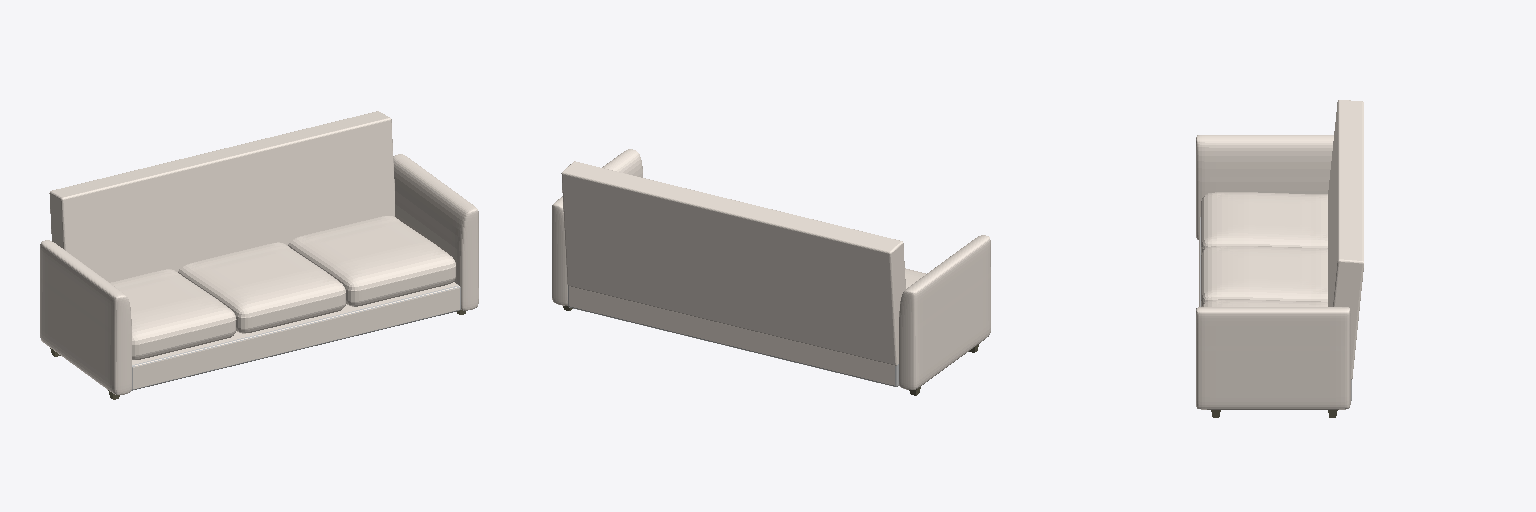
3 renders of one model, left to right at view 1: azimuth 30°, elevation 25°; view 2: azimuth 150°, elevation 25°; view 3: azimuth 270°, elevation 25°, orthographic.
Parts seen in each view (by area): view 1: Couch; view 2: Couch; view 3: Couch.
Boxes of the visible parts, <box> form: Couch: <box>40,111,478,399</box>; Couch: <box>552,149,990,395</box>; Couch: <box>1196,100,1363,417</box>.
Size of the model in its own units: 1.51 by 0.6016 by 0.6017.
Materials: 3 (2 with a texture image).